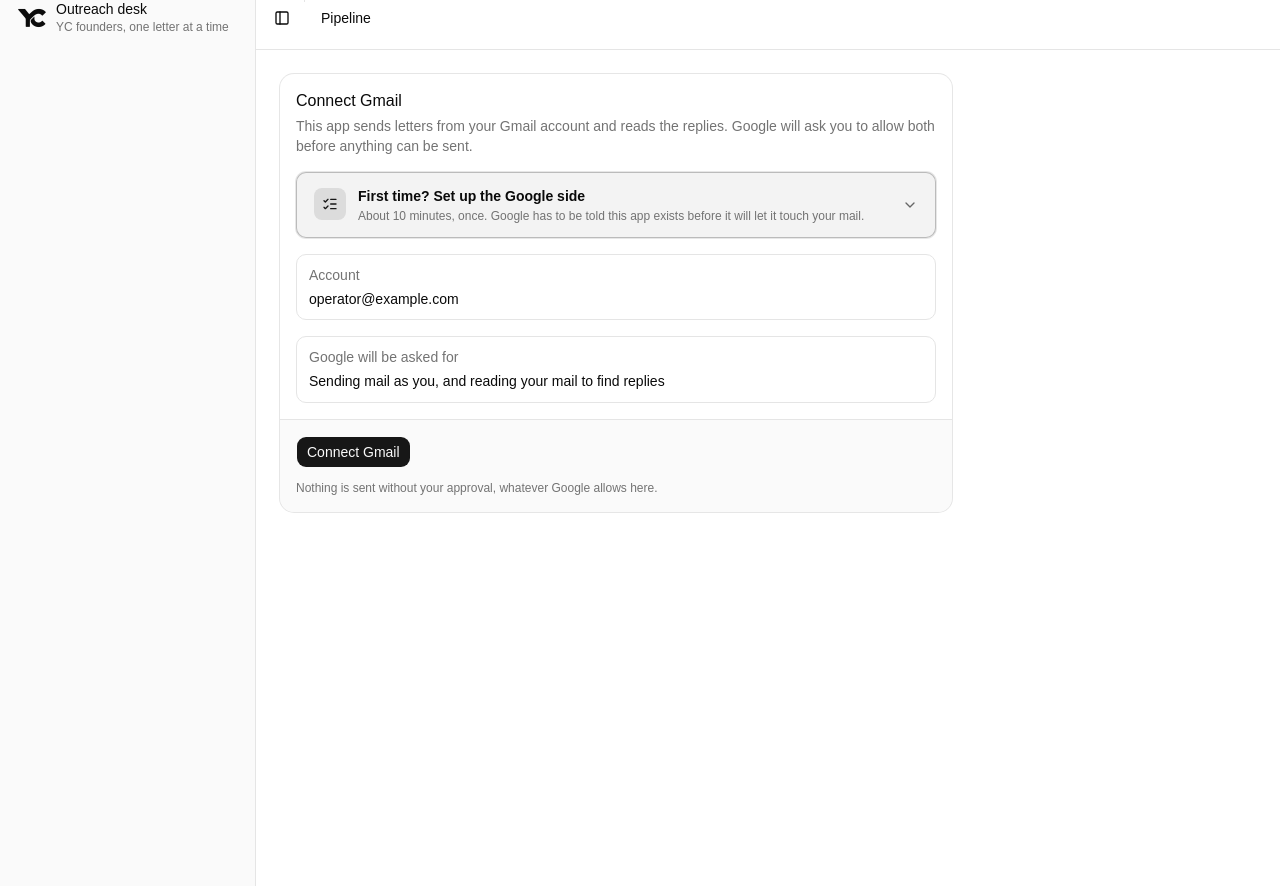
warns about the 7-day token expiry in testing mode
The width and height of the screenshot is (1280, 886).
Click the button "First time? Set up the Google side".
click(330, 204)  # box [297,173,935,237]
(page scrolled)
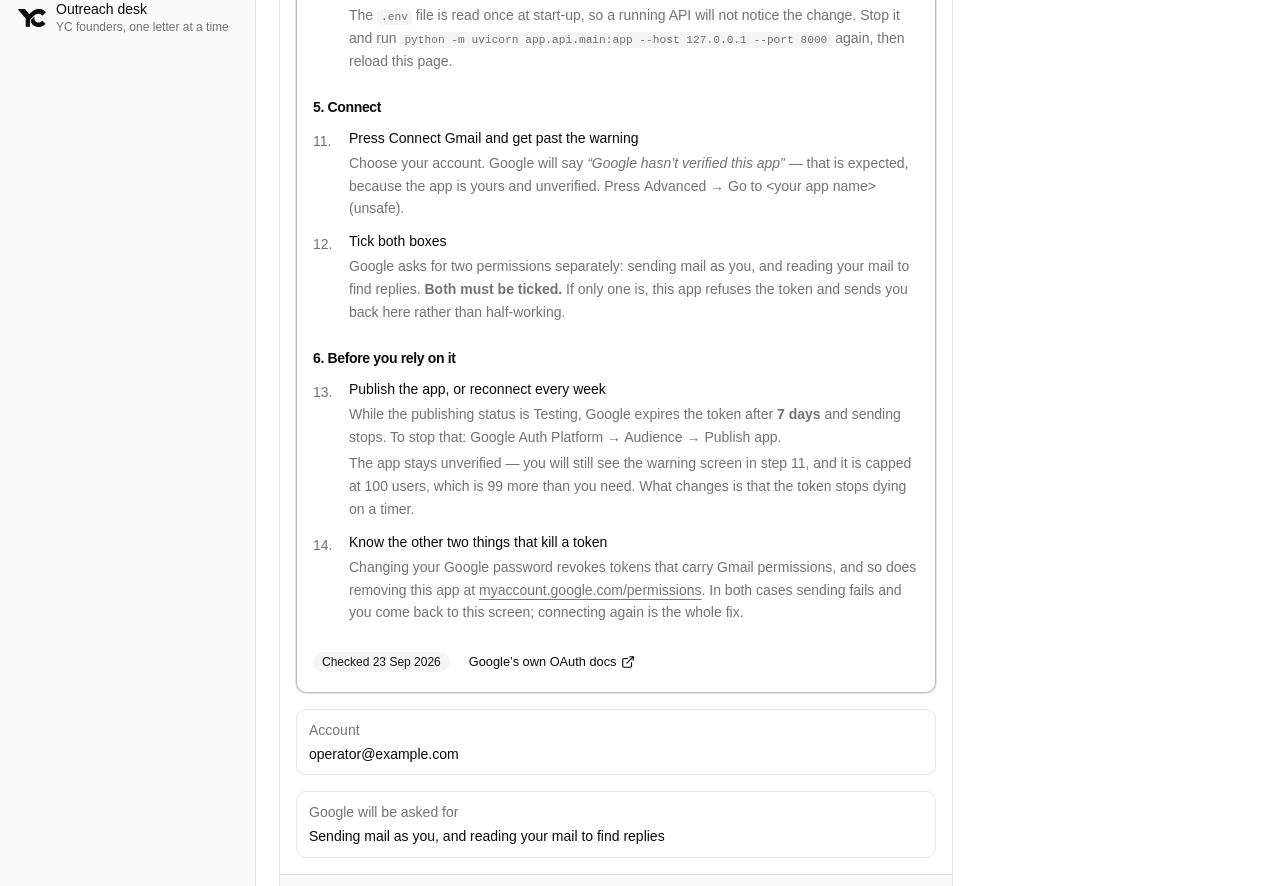
Check: the text "7 days" is shown, box [777,406,821,422]
Check: the text "Google Auth Platform → Audience → Publish app" is shown, box [470,428,778,444]
